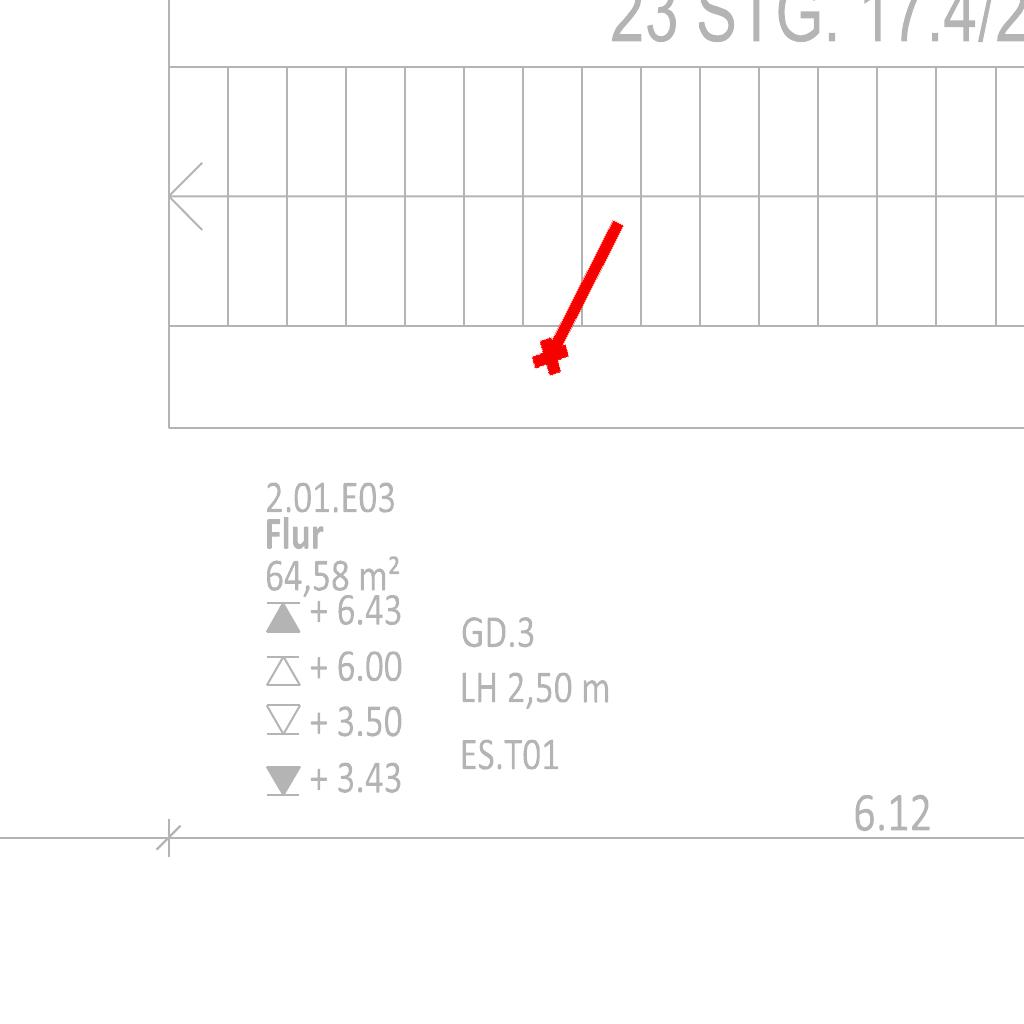ASR_Ansaugoeffnung: (518, 206, 640, 384)
